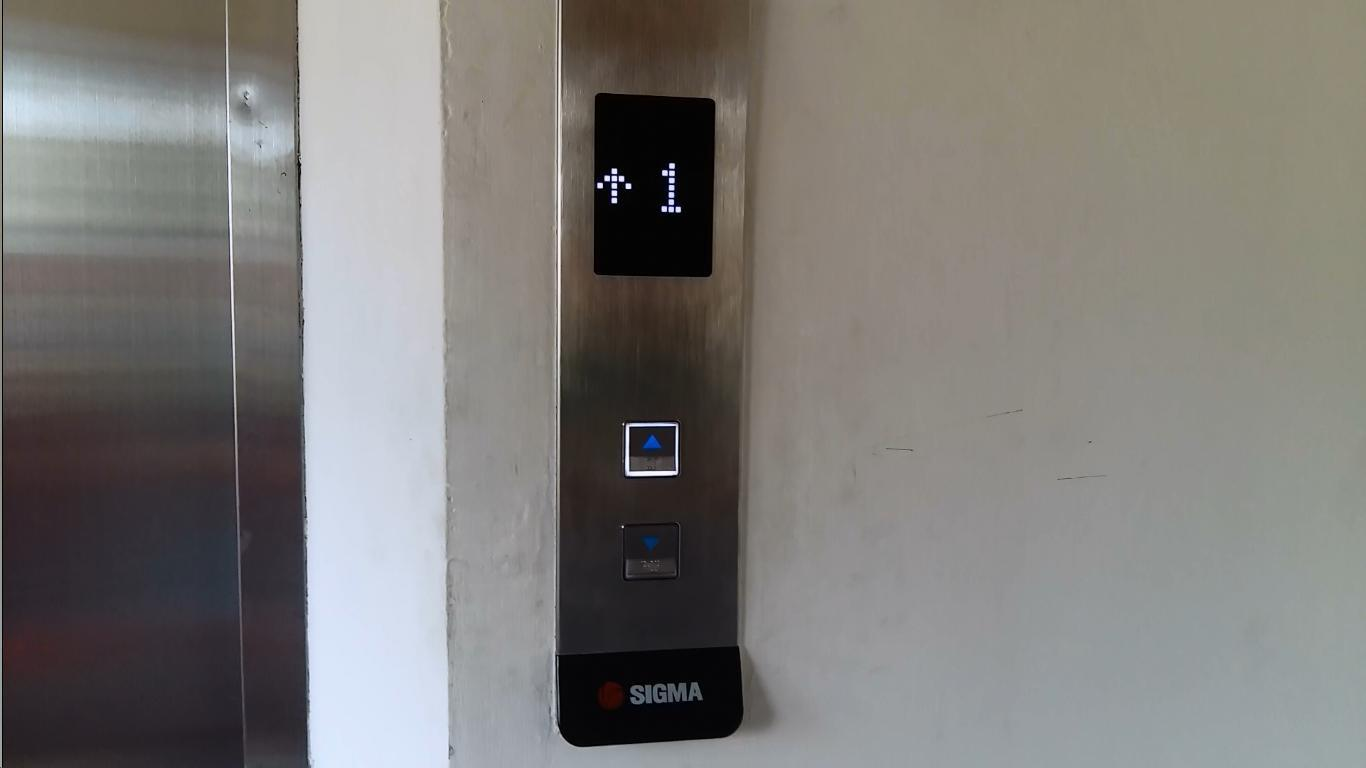down: (620, 519, 681, 582)
led: (591, 88, 715, 280)
up: (620, 417, 679, 479)
